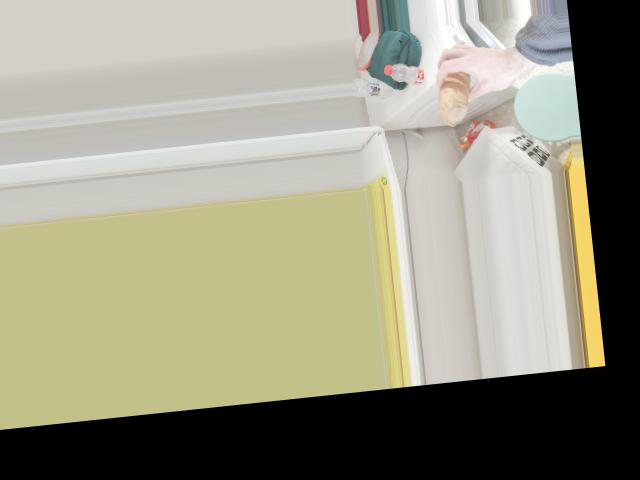sweet_potato: (432, 64, 481, 114)
